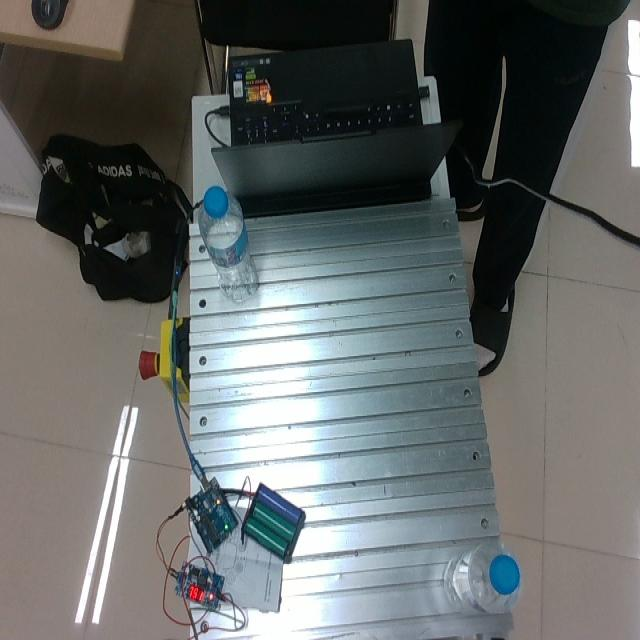lavie: (198, 184, 259, 304), (444, 539, 521, 613)
